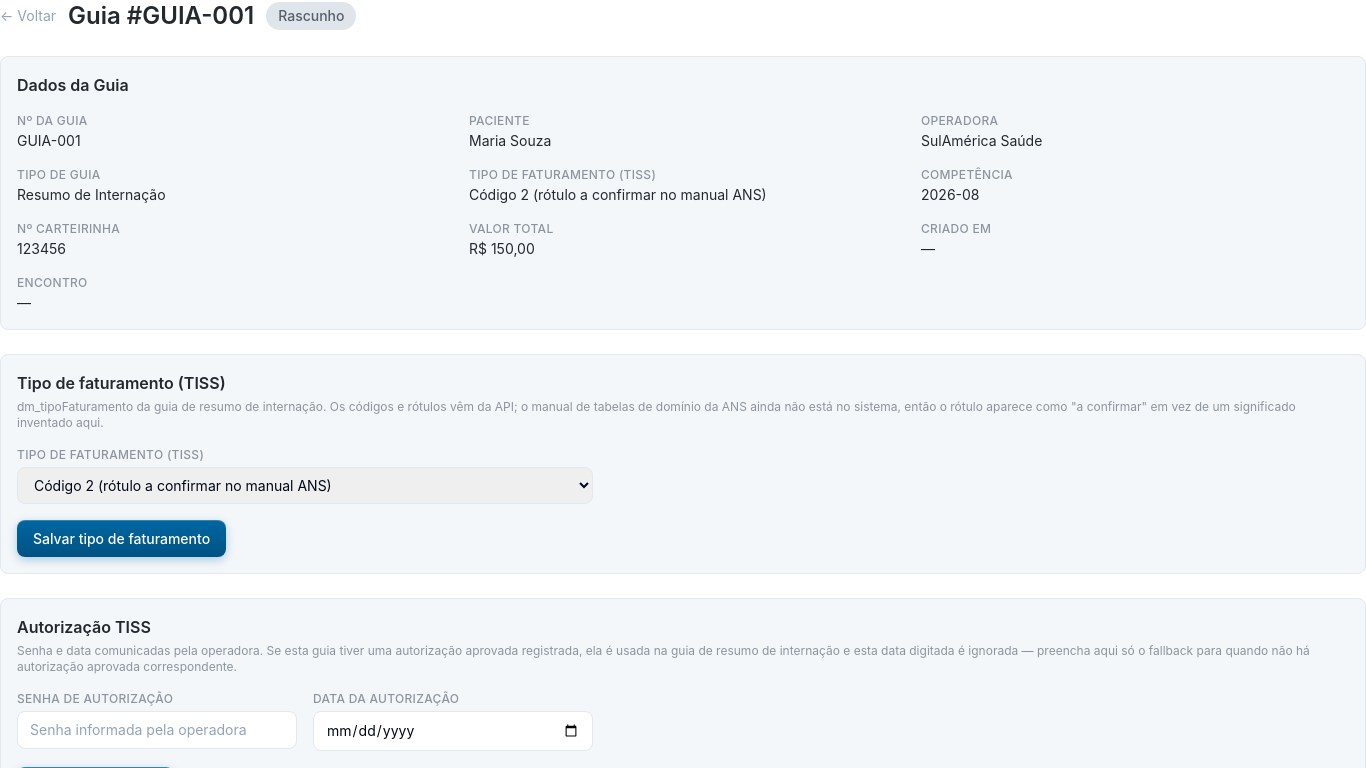
Test: GuideDetailPage — tipo de faturamento (TISS) › saves the picked code with a PATCH and confirms in its own panel
The width and height of the screenshot is (1366, 768).
Select "Código 1 (rótulo a confirmar no manual ANS)" in the dropdown labelled "Tipo de faturamento (TISS)" at (305, 486), box x1=17 y1=467 x2=593 y2=504
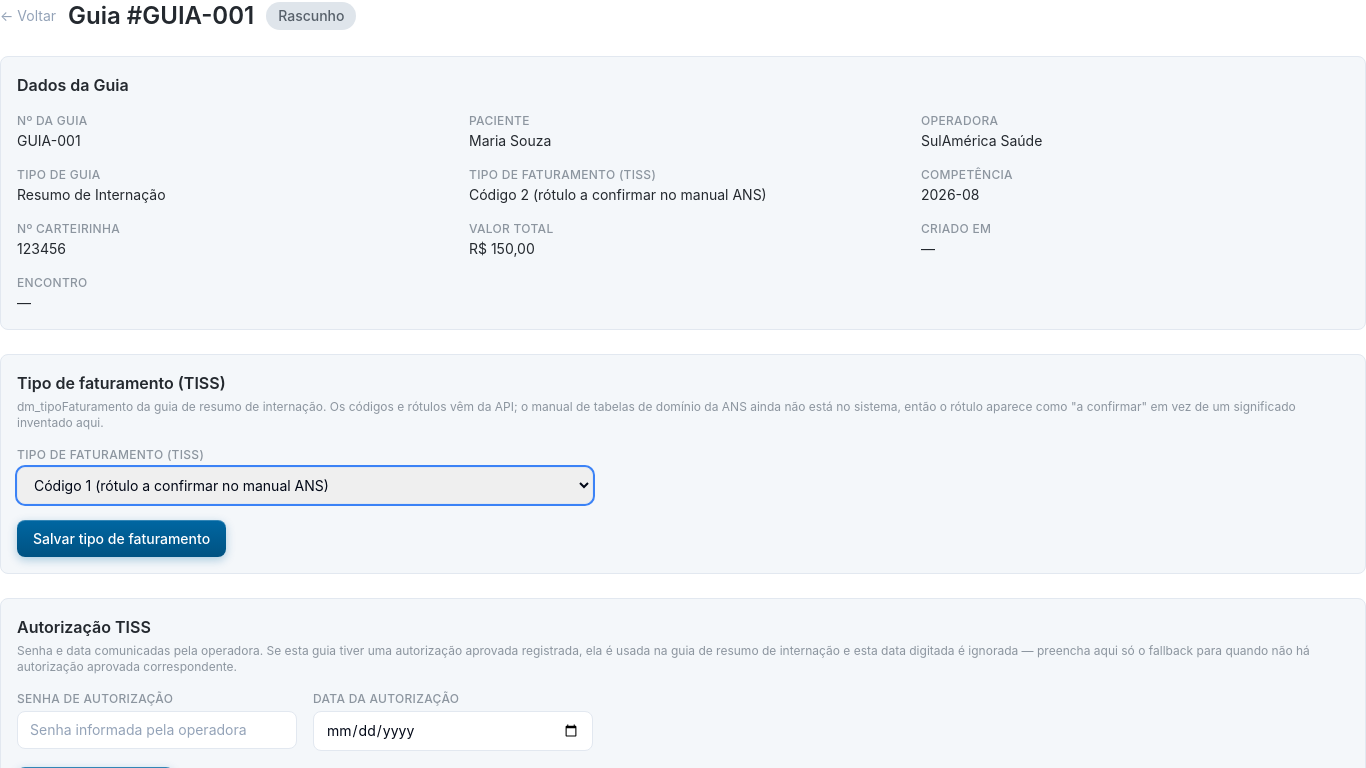
Click the button "Salvar tipo de faturamento" at (122, 538), box x1=17 y1=520 x2=226 y2=557
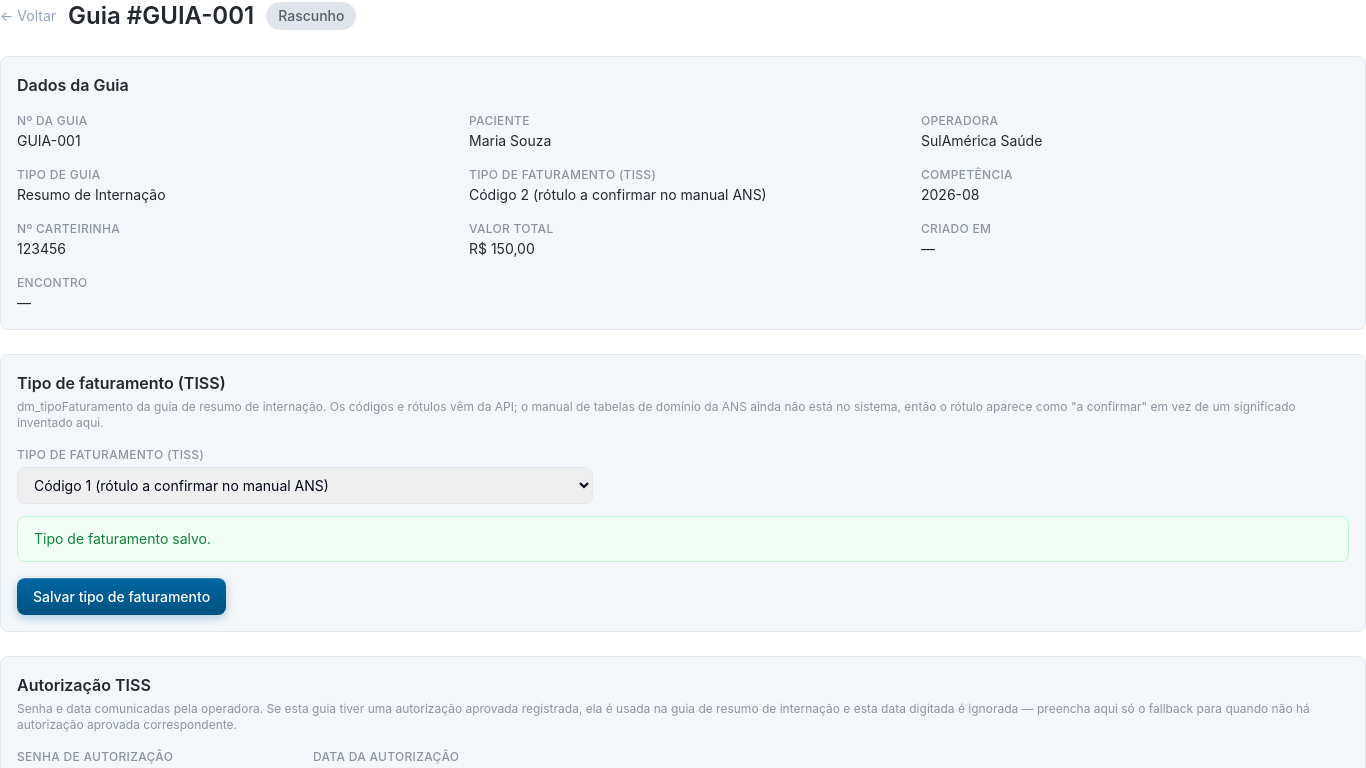
Expected: the text "Tipo de faturamento salvo." is shown, x1=17 y1=516 x2=1349 y2=562
